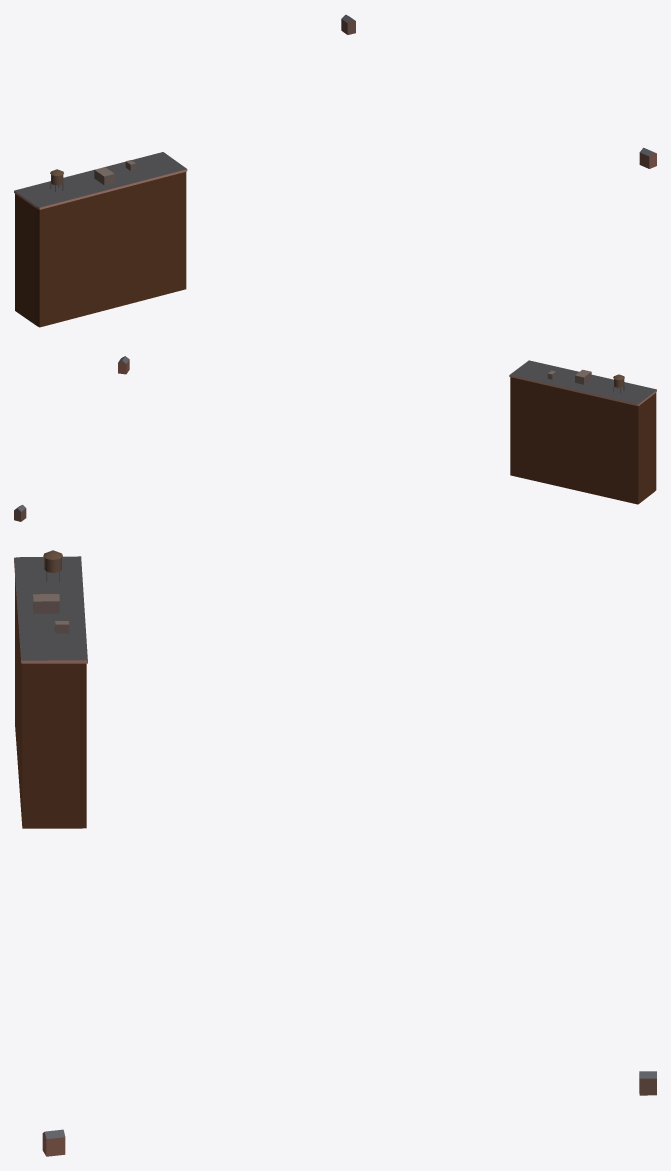
File: 1_-5.bld.glb
The picture shows the model from 3 angles, top to bottom: view 1: azimuth 30°, elevation 25°; view 2: azimuth 150°, elevation 25°; view 3: azimuth 270°, elevation 25°; orthographic projection. The views are drawn at different scales.
Visible parts, largest first — view 1: 1_-5; view 2: 1_-5; view 3: 1_-5.
Boxes of the visible parts, left/top/right/bottom form: 1_-5: left=14, top=14, right=656, bottom=327; 1_-5: left=14, top=356, right=656, bottom=521; 1_-5: left=14, top=550, right=656, bottom=1156.
Size of the model in its own units: 205 by 43.69 by 129.
